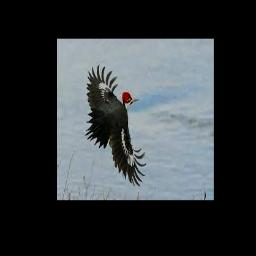Woodpecker: (85, 64, 147, 186)
